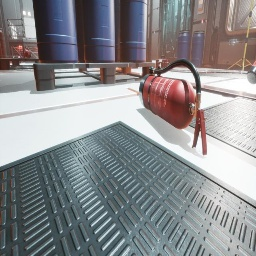0: (152, 60, 156, 63)
FireExtinguisher ]: (139, 59, 207, 156), (246, 60, 256, 84), (23, 46, 31, 58)
FirstAidBox ,: (156, 55, 170, 69)
NitrogenTank ,: (6, 55, 23, 63), (118, 67, 141, 69)
SafetySwitchPanel ,: (197, 0, 206, 15)
